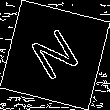N_SE: (25, 23, 85, 87)
